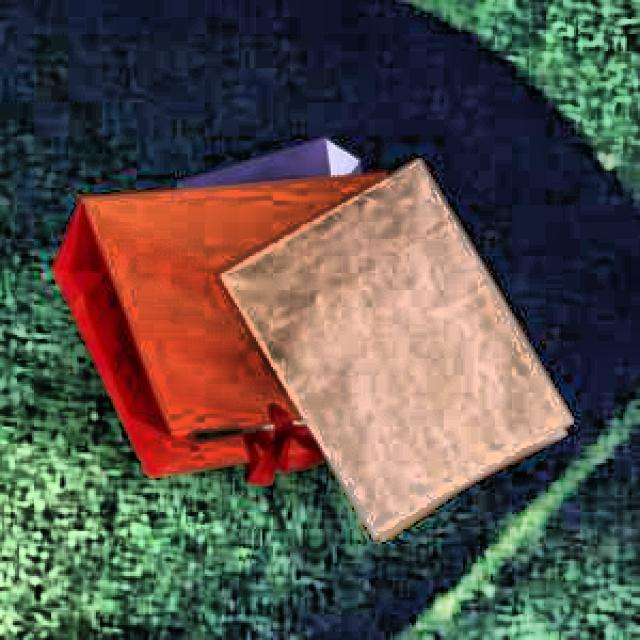Paper-bag: (220, 156, 581, 549)
